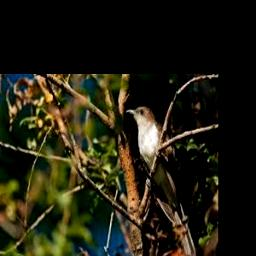Cuckoo: (126, 106, 196, 256)
